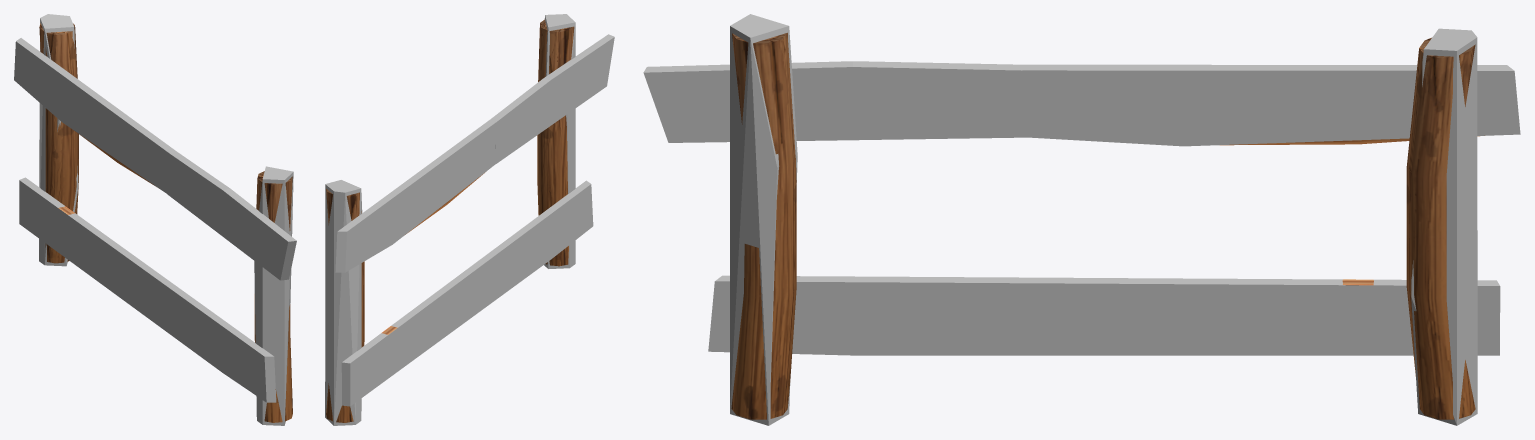
The model's file is SM_Fences03_2.fbx.
3 renders of one model, left to right at view 1: azimuth 30°, elevation 25°; view 2: azimuth 150°, elevation 25°; view 3: azimuth 270°, elevation 25°, orthographic. The views are drawn at different scales.
Parts seen in each view (by area): view 1: SM_Fences03_2_ConvexHulls, SM_Fences03_2; view 2: SM_Fences03_2_ConvexHulls, SM_Fences03_2; view 3: SM_Fences03_2_ConvexHulls, SM_Fences03_2.
Part boxes in pixels (box(x1,y1,x2,y2)): SM_Fences03_2_ConvexHulls: box(14, 14, 296, 425); SM_Fences03_2: box(39, 23, 292, 422); SM_Fences03_2_ConvexHulls: box(325, 14, 614, 425); SM_Fences03_2: box(326, 19, 574, 422); SM_Fences03_2_ConvexHulls: box(643, 14, 1520, 425); SM_Fences03_2: box(731, 32, 1479, 419).
Bounding box in the file's own units: 10.46 × 132 × 64.47.
2 materials, 1 textured.
